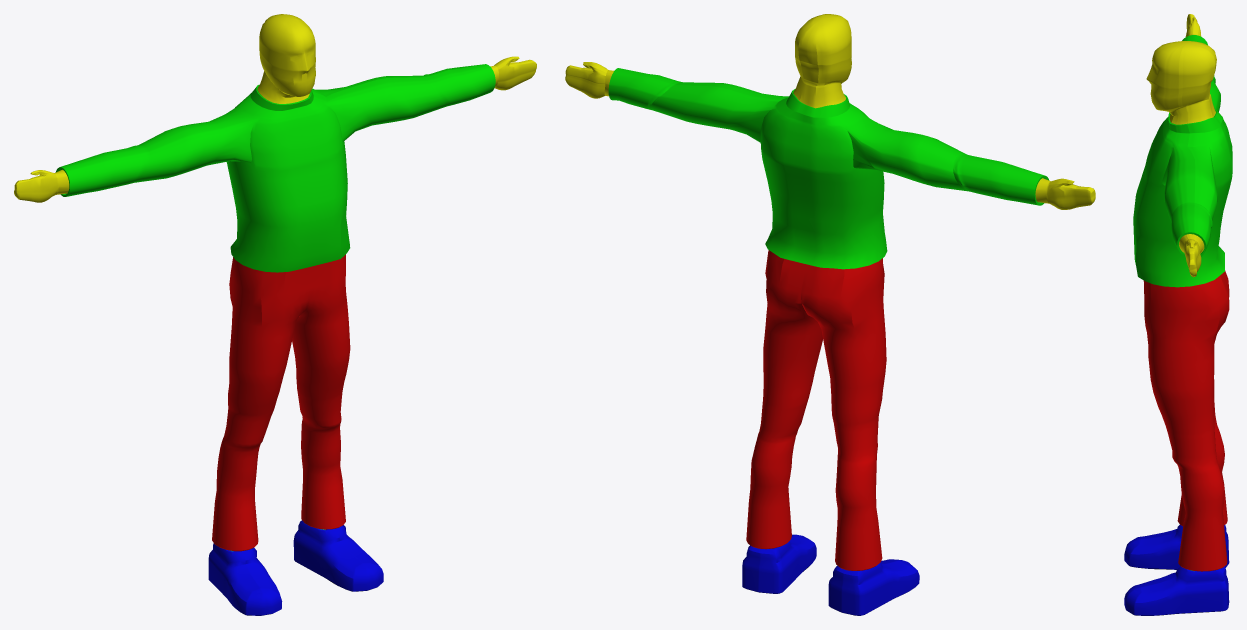
The model's file is NPC.fbx.
3 renders of one model, left to right at view 1: azimuth 30°, elevation 25°; view 2: azimuth 150°, elevation 25°; view 3: azimuth 270°, elevation 25°, orthographic. The views are drawn at different scales.
Parts seen in each view (by area): view 1: Guy; view 2: Guy; view 3: Guy.
Boxes of the visible parts, box(x1,y1,x2,y2) form: Guy: box(14, 14, 536, 615); Guy: box(565, 14, 1095, 615); Guy: box(1124, 14, 1232, 615).
Size of the model in its own units: 1.75 by 1.79 by 0.3262.
